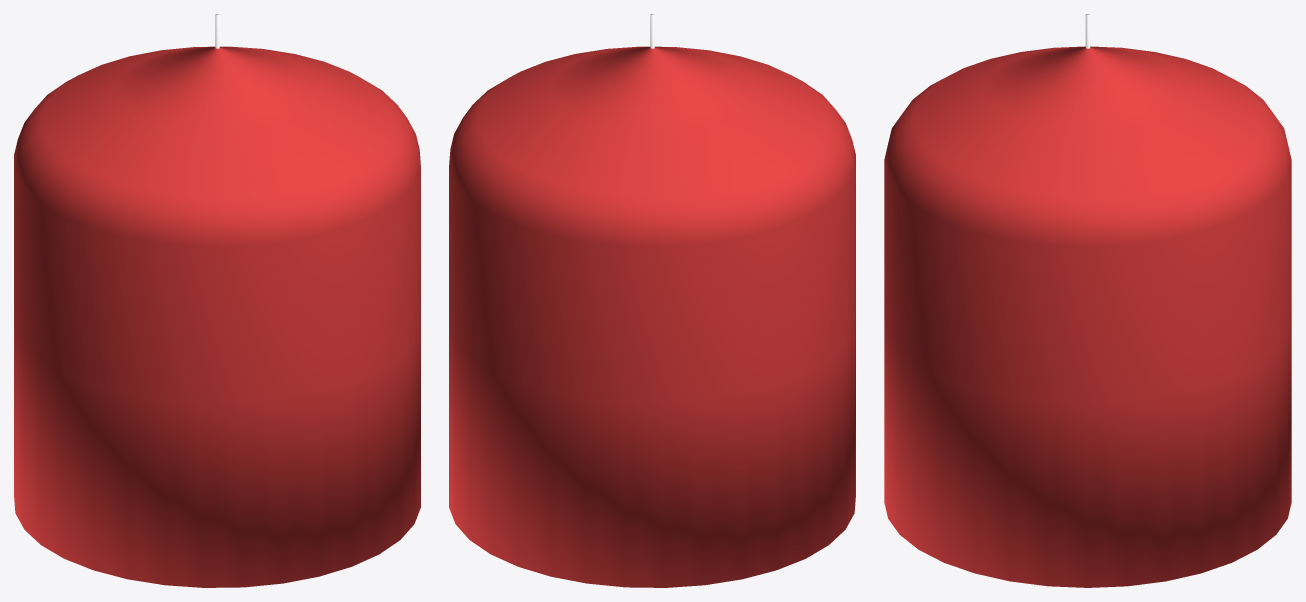
File: Candle.fbx
3 views of the same model, side by side, from view 1: azimuth 30°, elevation 25°; view 2: azimuth 150°, elevation 25°; view 3: azimuth 270°, elevation 25° (orthographic).
Visible parts, largest first — view 1: Candle; view 2: Candle; view 3: Candle.
Boxes of the visible parts, left/top/right/bottom form: Candle: left=14, top=14, right=420, bottom=587; Candle: left=449, top=14, right=855, bottom=587; Candle: left=884, top=14, right=1291, bottom=587.
Size of the model in its own units: 65.86 by 86.79 by 65.86.
